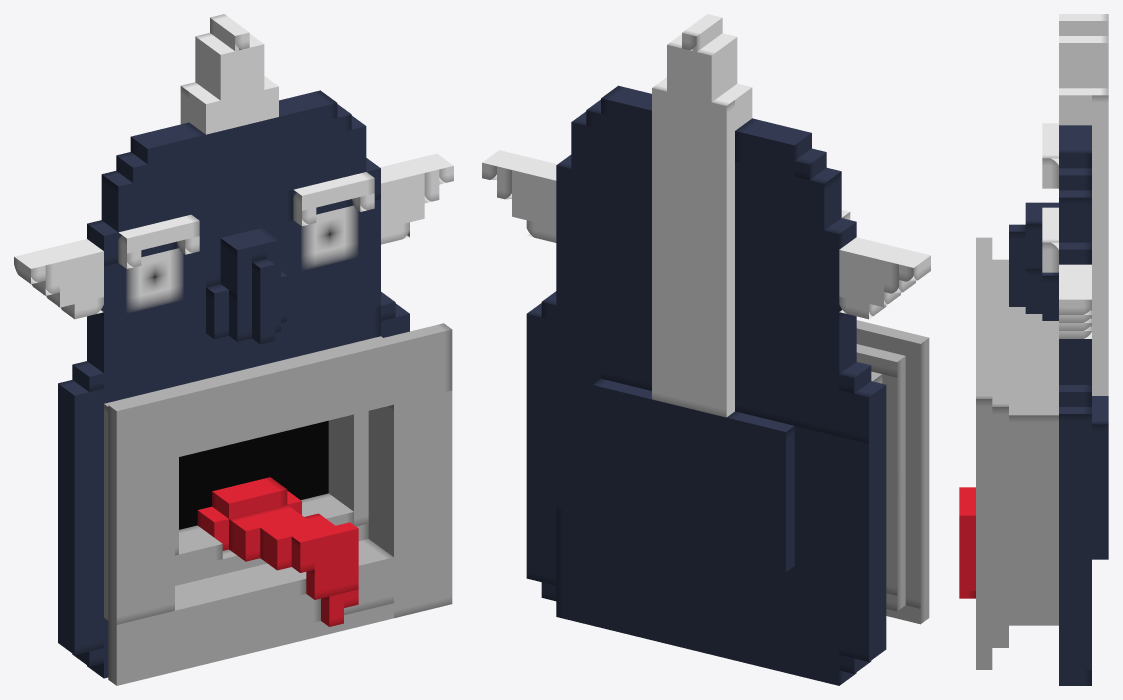
Rendered from FishFace.dae.
The picture shows the model from 3 angles, left to right: view 1: azimuth 30°, elevation 25°; view 2: azimuth 150°, elevation 25°; view 3: azimuth 270°, elevation 25°; orthographic projection. The views are drawn at different scales.
Parts seen in each view (by area): view 1: FishFace; view 2: FishFace; view 3: FishFace.
Boxes of the visible parts, box(x1,y1,x2,y2) form: FishFace: box(14, 14, 453, 685); FishFace: box(482, 14, 930, 685); FishFace: box(959, 14, 1108, 685).
Size of the model in its own units: 29 by 40 by 9.
1 material, 1 textured.
